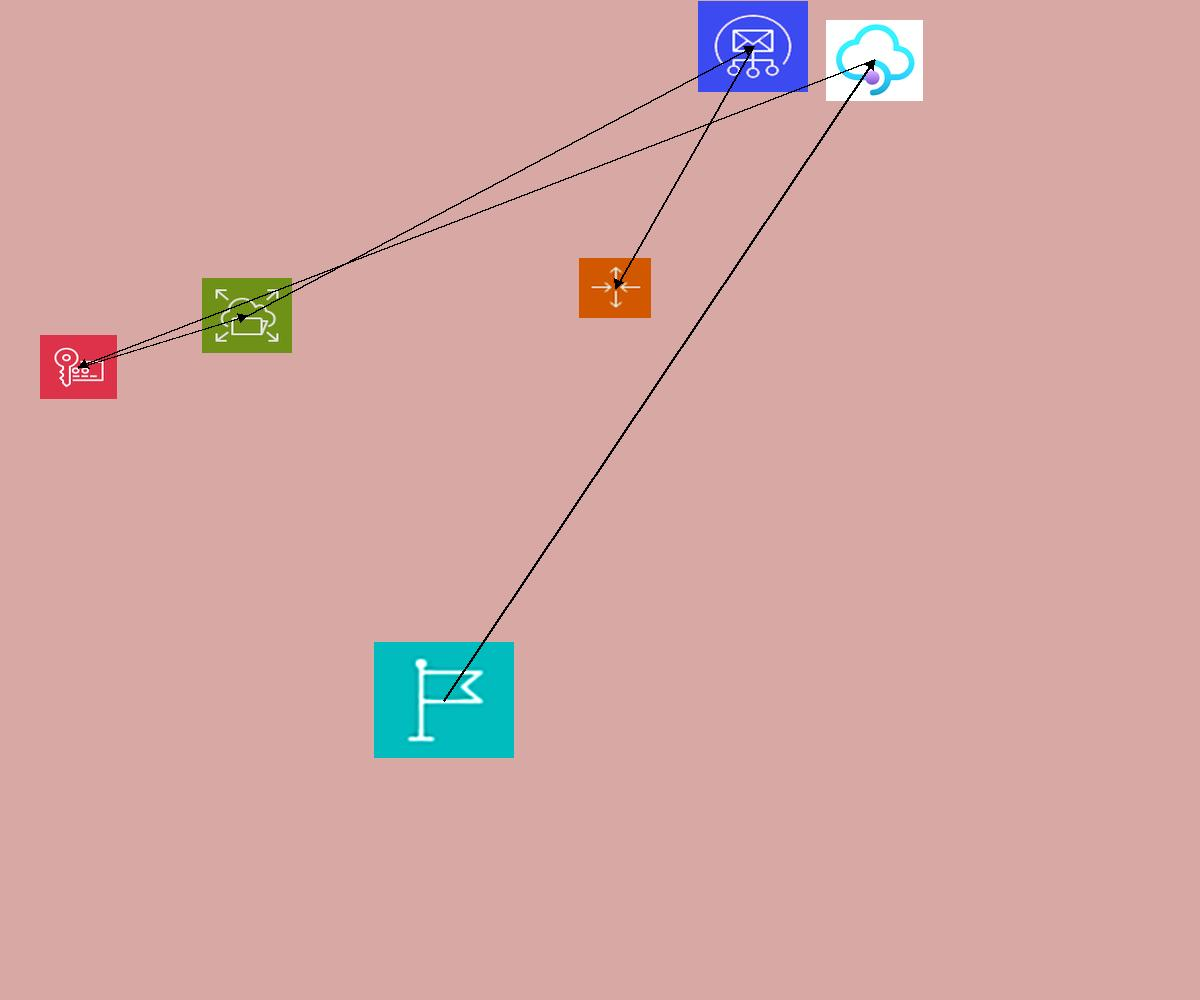AWS-EFS: (202, 278, 292, 353)
AWS-Key-Management-Service: (40, 335, 117, 399)
AWS-Region: (374, 642, 514, 758)
AWS-Scaling-group: (579, 258, 651, 318)
AWS-Simple-Email-Service: (698, 1, 808, 92)
Azure_api_gateway: (826, 20, 923, 101)
